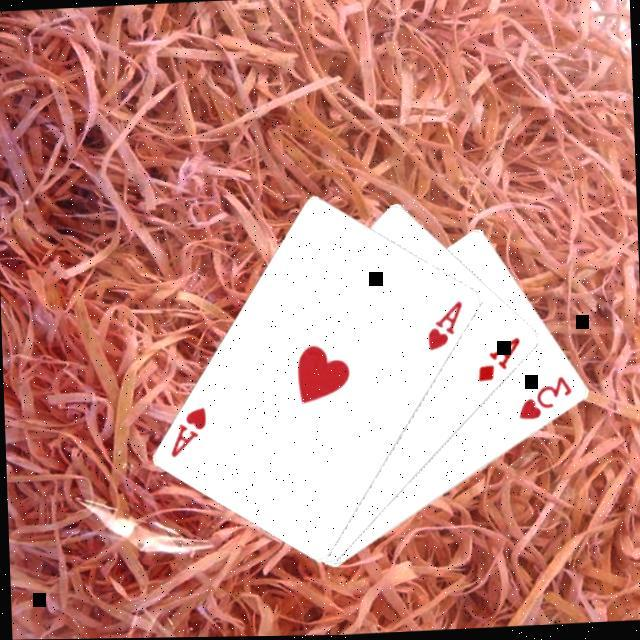3H: (514, 375, 576, 427)
AD: (474, 336, 526, 388)
AH: (166, 405, 212, 463), (424, 299, 468, 356)
